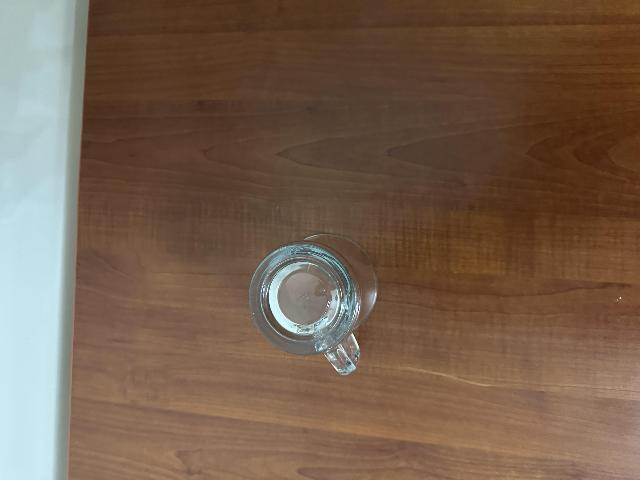Cam: (247, 230, 380, 378)
